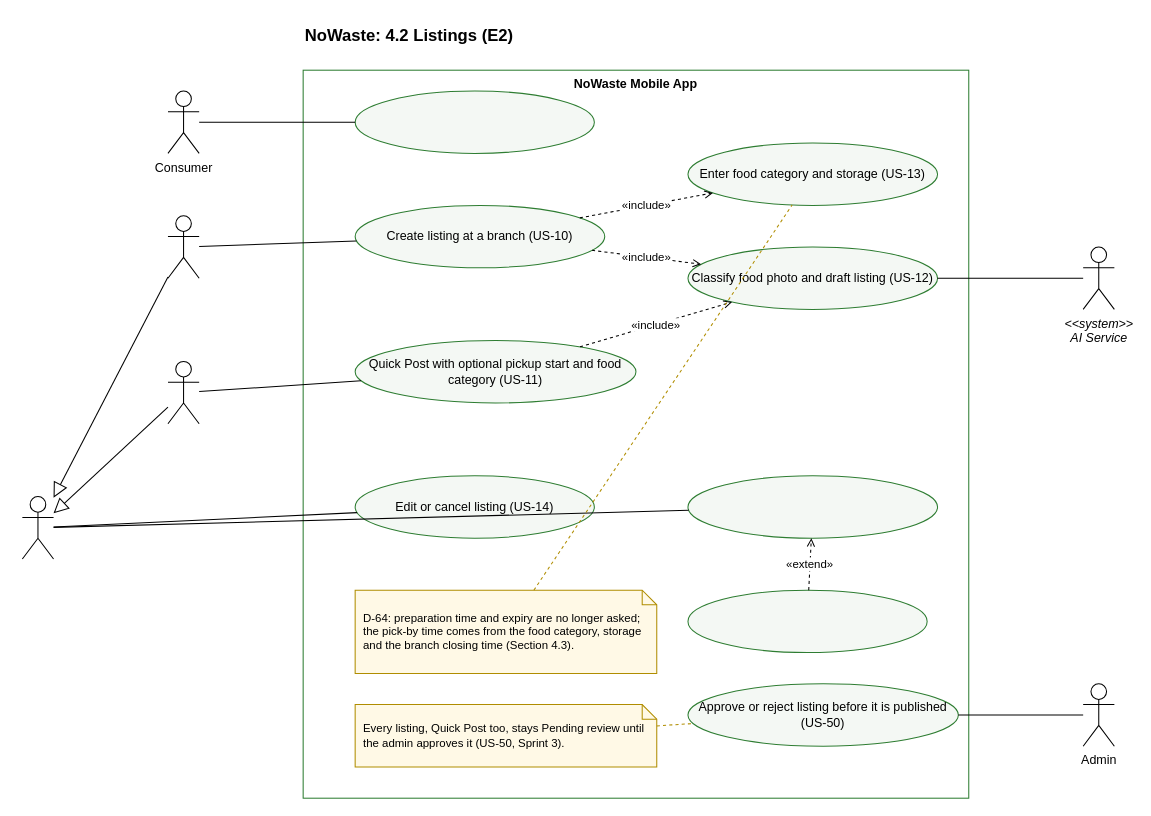
Image size: 1151x816. Some labels were removed from this diagram. Each missing label, with the centre of its shape:
Formal Vendor: the point at 183,246
Informal Vendor: the point at 183,392
Vendor: the point at 37,527
View active and previous listings (US-15): the point at 812,506
View calorie estimate (US-16): the point at 474,121
View suggested discount (US-17): the point at 807,621
